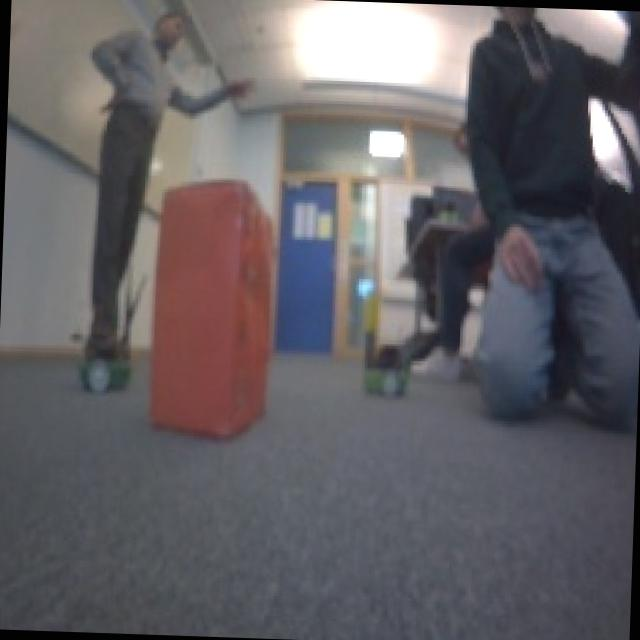robot: (77, 327, 136, 392), (363, 342, 412, 399)
target: (148, 175, 283, 442)
